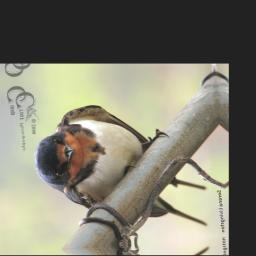Swallow: (30, 96, 209, 242)
